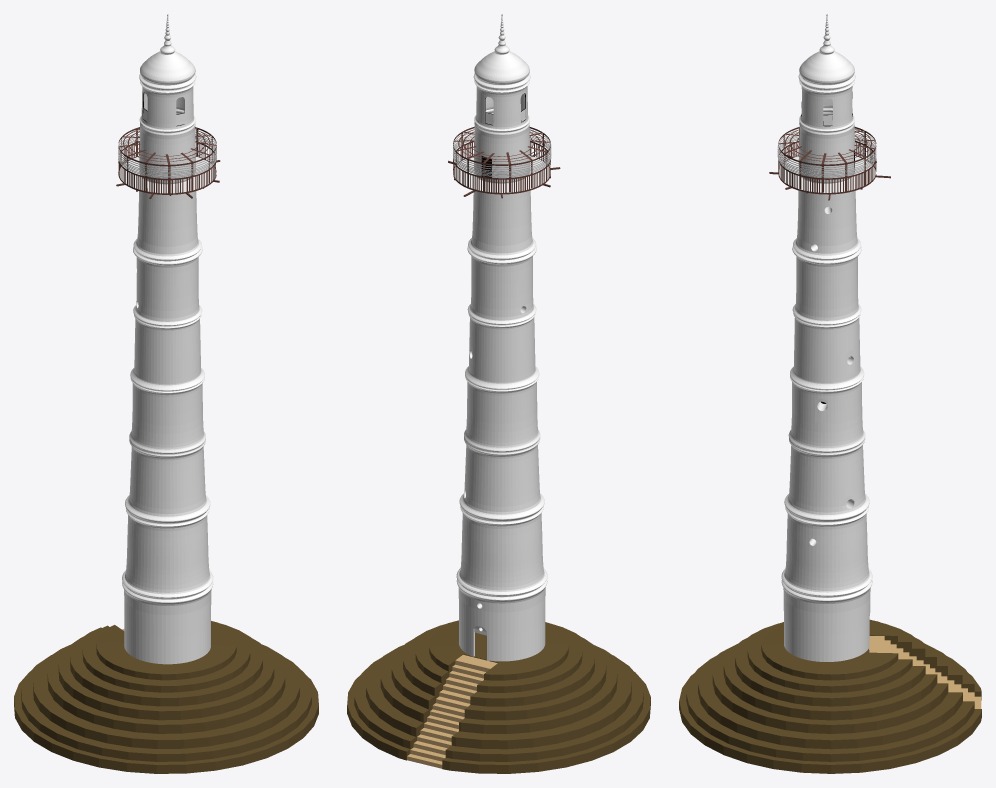
Rendered from Dharahara .fbx.
3 renders of one model, left to right at view 1: azimuth 30°, elevation 25°; view 2: azimuth 150°, elevation 25°; view 3: azimuth 270°, elevation 25°, orthographic.
Visible parts, largest first — view 1: DharaharaBase.001, DhararaPillar.008; view 2: DharaharaBase.001, DhararaPillar.008; view 3: DharaharaBase.001, DhararaPillar.008.
Boxes of the visible parts, x1,y1,x2,y2 form: DharaharaBase.001: (14,14,318,773); DhararaPillar.008: (118,130,216,177); DharaharaBase.001: (347,14,650,773); DhararaPillar.008: (453,129,551,177); DharaharaBase.001: (679,14,981,773); DhararaPillar.008: (777,129,876,177).
Bounding box in the file's own units: 295 × 744 × 294.
